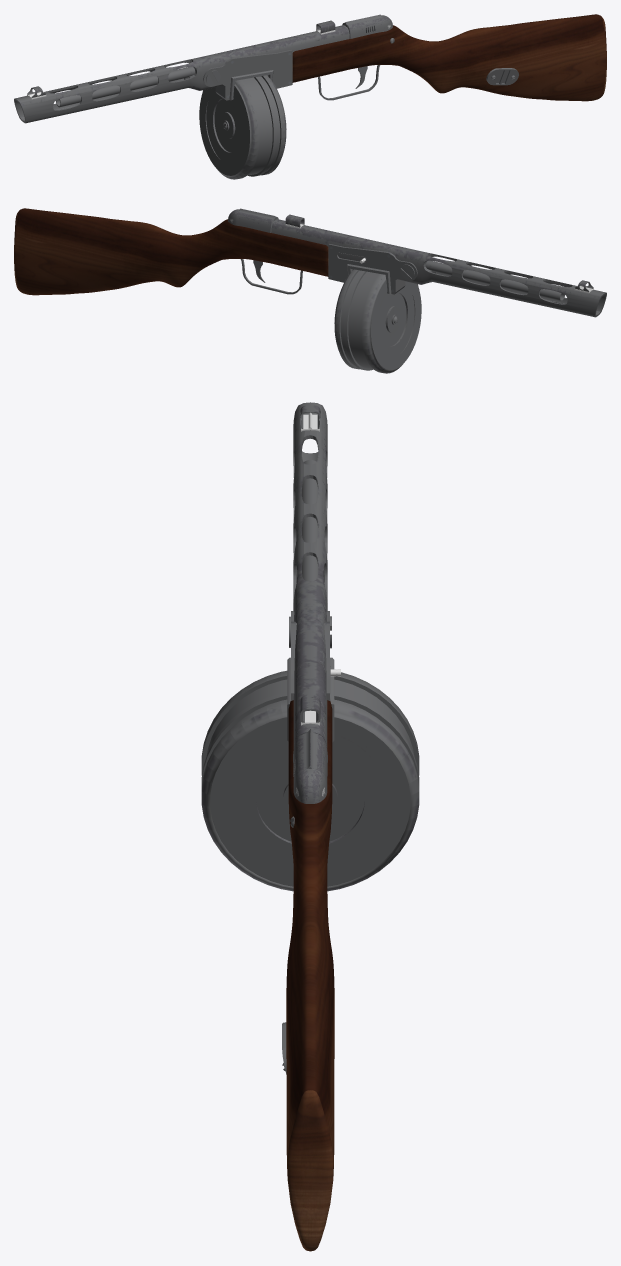
File: PPSH.fbx
3 views of the same model, one above another, from view 1: azimuth 30°, elevation 25°; view 2: azimuth 150°, elevation 25°; view 3: azimuth 270°, elevation 25° (orthographic). The views are drawn at different scales.
Parts seen in each view (by area): view 1: g PPSH:polySurface32 pasted__polySurface52 group, g PPSH:polySurface32 pasted__polySurface52 group.001, g PPSH:polySurface32 polySurface18, g PPSH:polySurface27 pasted__polySurface52 group; view 2: g PPSH:polySurface32 pasted__polySurface52 group, g PPSH:polySurface32 pasted__polySurface52 group.001, g PPSH:polySurface32 polySurface18, g PPSH:polySurface27 pasted__polySurface52 group; view 3: g PPSH:polySurface32 polySurface18, g PPSH:polySurface32 pasted__polySurface52 group.001, g PPSH:polySurface32 pasted__polySurface52 group, g PPSH:polySurface27 pasted__polySurface52 group.
Part boxes in pixels (box(x1,y1,x2,y2)): g PPSH:polySurface32 pasted__polySurface52 group: box(292, 14, 600, 96); g PPSH:polySurface32 pasted__polySurface52 group.001: box(14, 14, 518, 123); g PPSH:polySurface32 polySurface18: box(199, 75, 286, 179); g PPSH:polySurface27 pasted__polySurface52 group: box(292, 14, 606, 101); g PPSH:polySurface32 pasted__polySurface52 group: box(20, 208, 328, 295); g PPSH:polySurface32 pasted__polySurface52 group.001: box(228, 208, 606, 317); g PPSH:polySurface32 polySurface18: box(334, 269, 421, 373); g PPSH:polySurface27 pasted__polySurface52 group: box(14, 208, 328, 294); g PPSH:polySurface32 polySurface18: box(201, 670, 419, 891); g PPSH:polySurface32 pasted__polySurface52 group.001: box(282, 402, 334, 1074); g PPSH:polySurface32 pasted__polySurface52 group: box(286, 700, 334, 1168); g PPSH:polySurface27 pasted__polySurface52 group: box(286, 805, 334, 1251).
Size of the model in its own units: 200 by 48.16 by 32.12.
